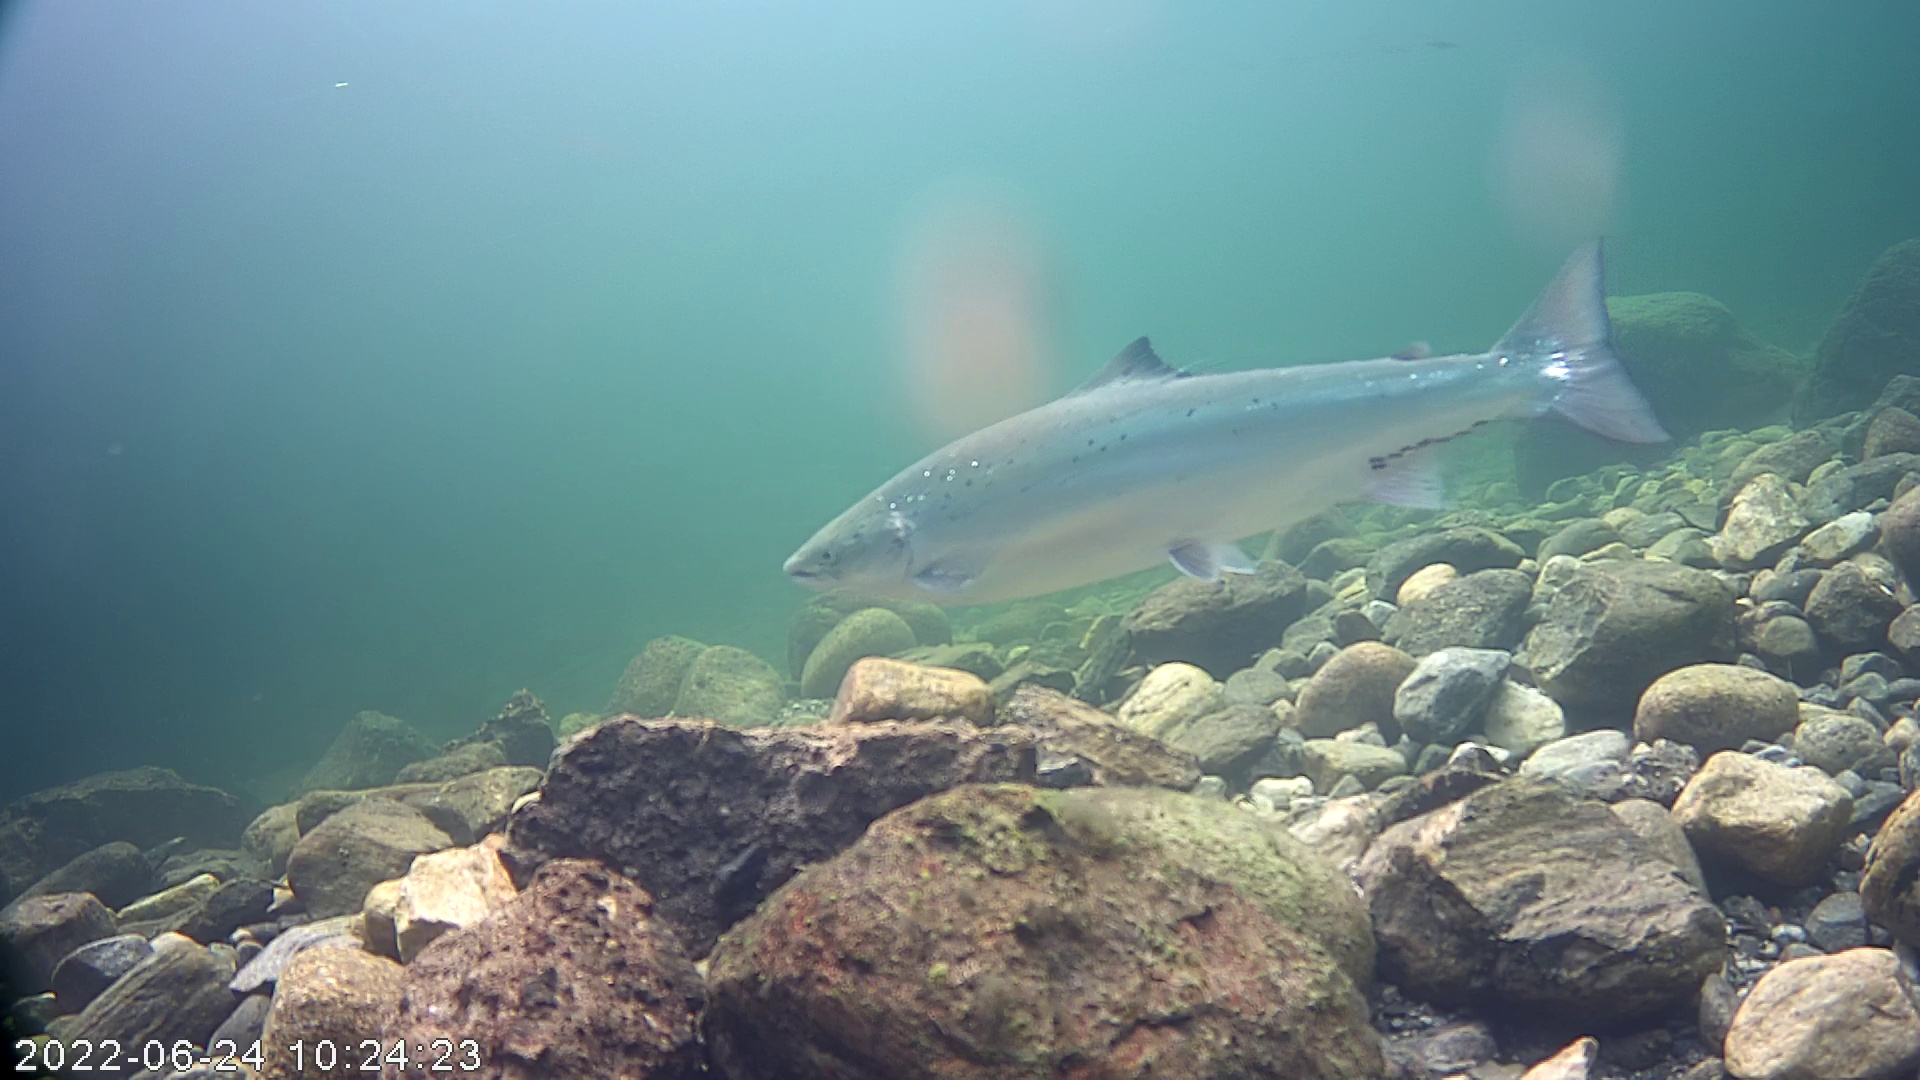salmon: (779, 236, 1669, 607)
